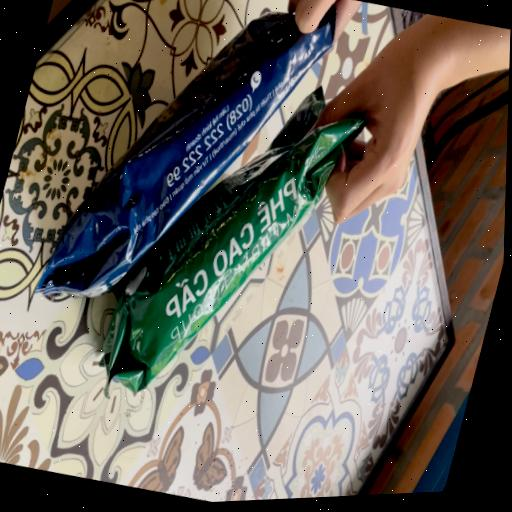cafe_hat: (35, 8, 335, 297)
cafe_xay: (99, 90, 361, 395)
